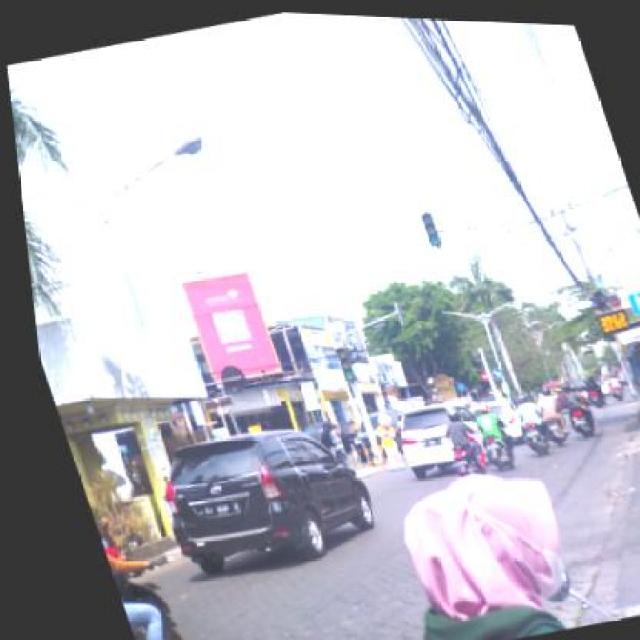green_light: (326, 342, 351, 381), (416, 206, 438, 246)
